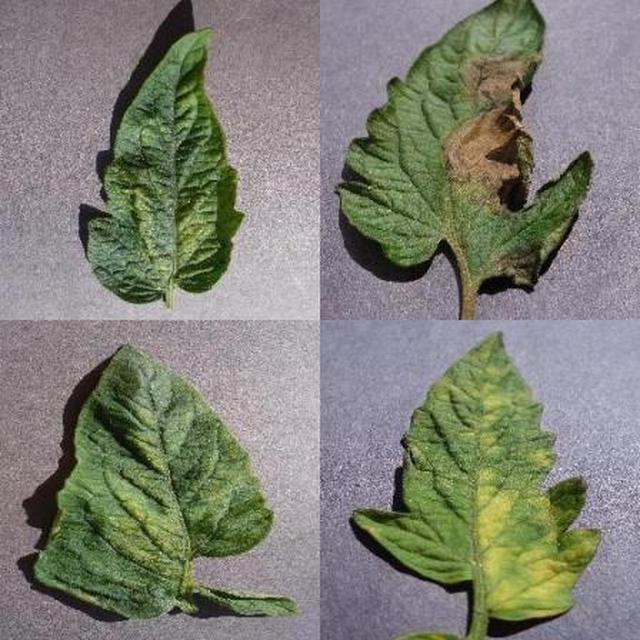Spider Mites Leaf: (220, 205, 640, 640)
